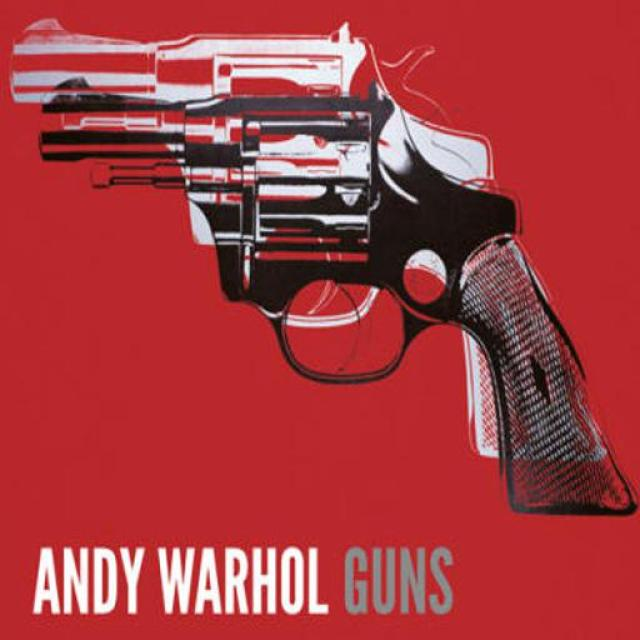pistol: (7, 13, 610, 464), (40, 73, 637, 518)
